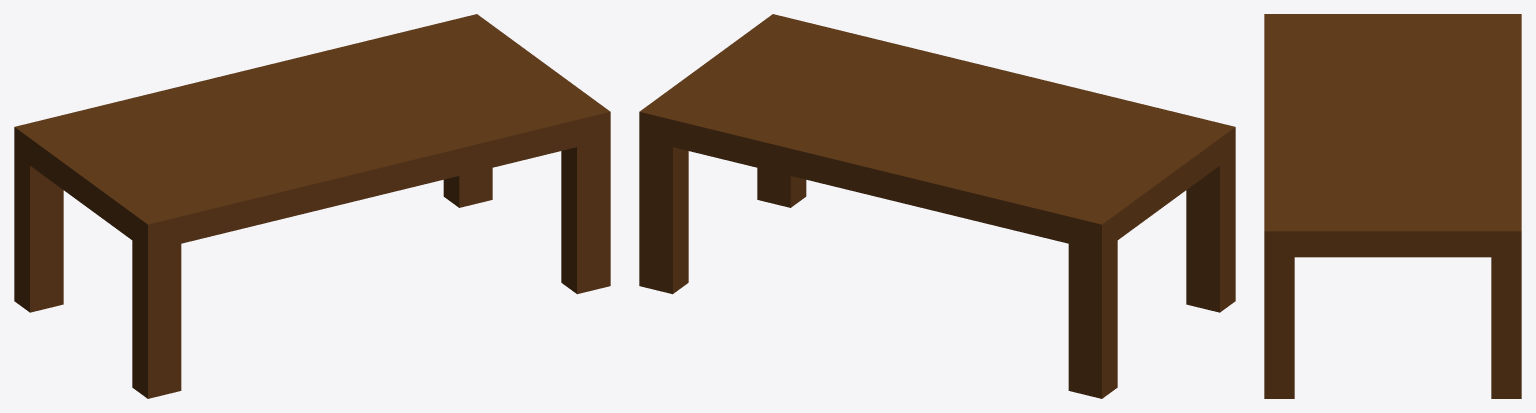
The model's file is table.fbx.
3 renders of one model, left to right at view 1: azimuth 30°, elevation 25°; view 2: azimuth 150°, elevation 25°; view 3: azimuth 270°, elevation 25°, orthographic. The views are drawn at different scales.
Parts seen in each view (by area): view 1: Box007; view 2: Box007; view 3: Box007.
Boxes of the visible parts, bbox=[...] form: Box007: bbox=[14, 14, 610, 398]; Box007: bbox=[639, 14, 1235, 398]; Box007: bbox=[1264, 14, 1521, 398].
Bounding box in the file's own units: 39.37 × 14.18 × 19.69.
